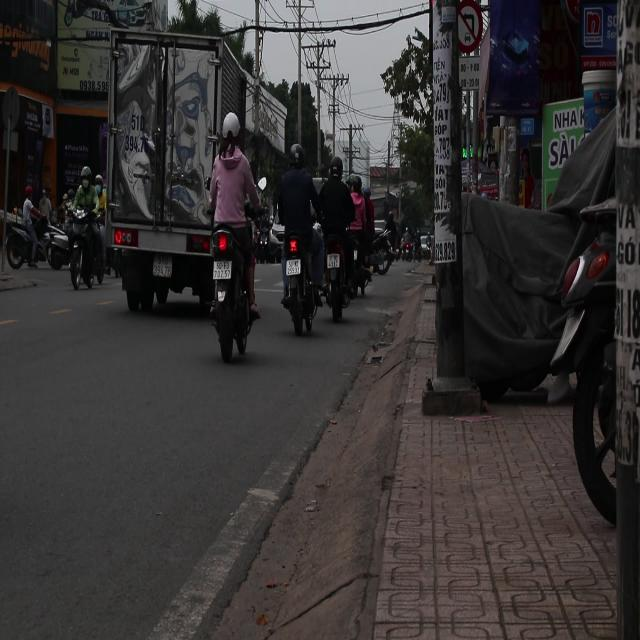motorbike: (203, 217, 257, 365), (279, 226, 323, 348), (322, 231, 358, 324), (4, 210, 58, 270), (67, 202, 97, 300), (40, 216, 69, 272), (369, 231, 394, 275)
truck: (108, 26, 234, 316)
